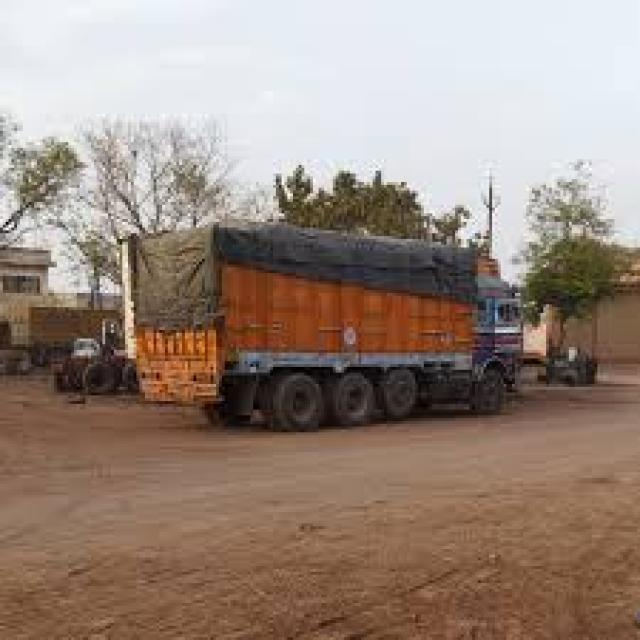Truck: (116, 223, 528, 427)
